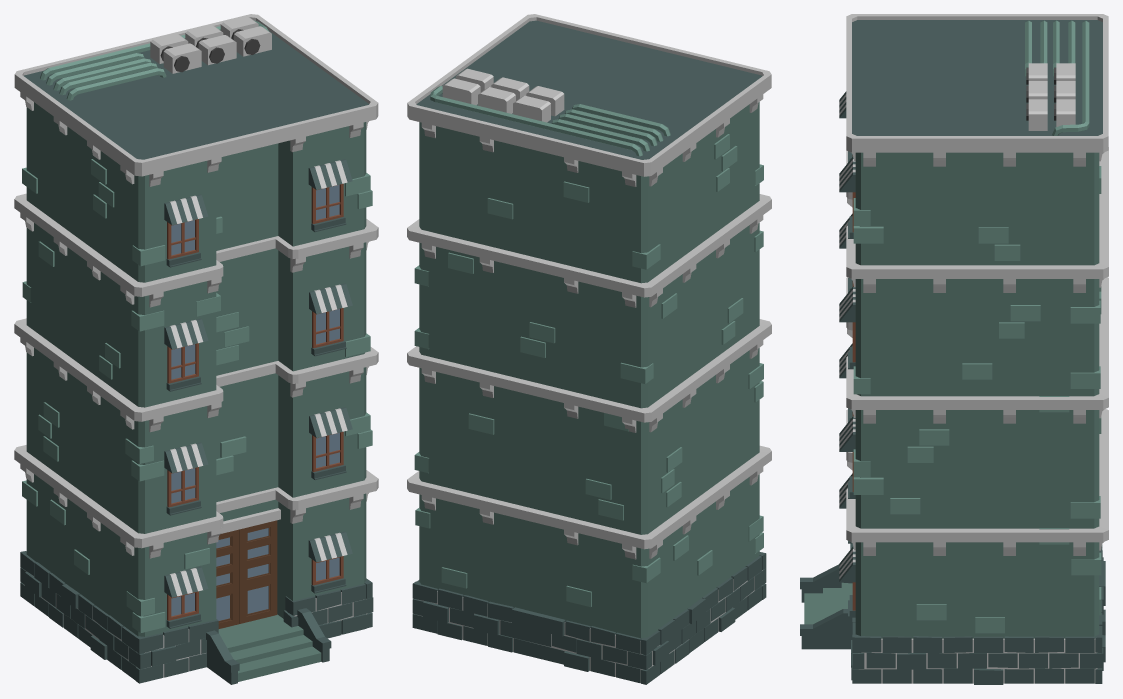
File: 4StoryB.glb
3 views of the same model, side by side, from view 1: azimuth 30°, elevation 25°; view 2: azimuth 150°, elevation 25°; view 3: azimuth 270°, elevation 25° (orthographic). The views are drawn at different scales.
Parts seen in each view (by area): view 1: 4Story_Center; view 2: 4Story_Center; view 3: 4Story_Center.
Part boxes in pixels (left/top/right/bottom): 4Story_Center: left=14, top=14, right=378, bottom=684; 4Story_Center: left=407, top=14, right=771, bottom=684; 4Story_Center: left=800, top=14, right=1108, bottom=684.
Size of the model in its own units: 2.42 by 5.09 by 2.53.
1 material, 1 textured.
